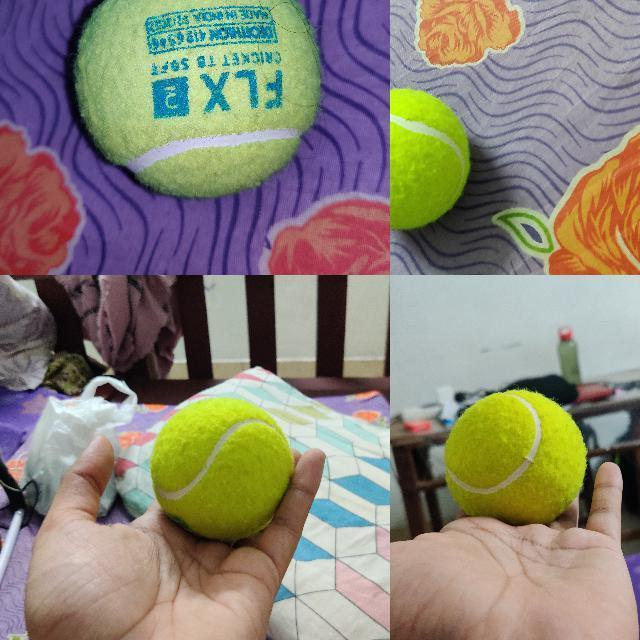tennis-ball: (74, 0, 322, 197), (152, 397, 293, 537), (443, 389, 587, 514), (390, 88, 472, 230)
